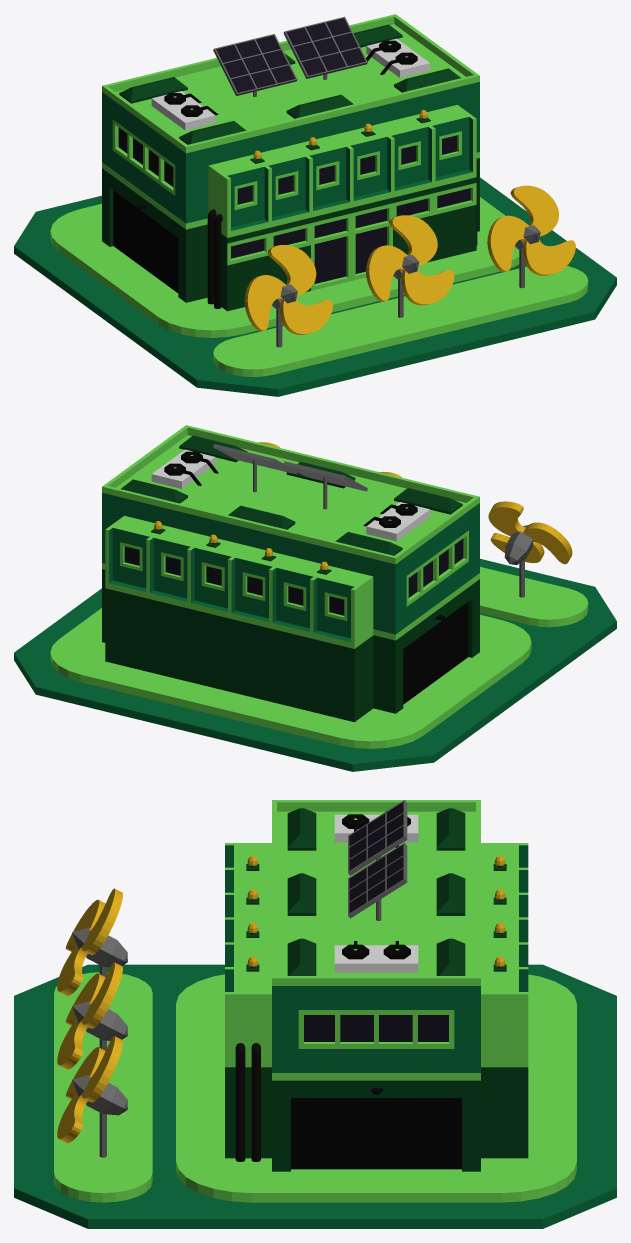
File: PowerPlant_Green.fbx
3 renders of one model, top to bottom at view 1: azimuth 30°, elevation 25°; view 2: azimuth 150°, elevation 25°; view 3: azimuth 270°, elevation 25°, orthographic. The views are drawn at different scales.
Visible parts, largest first — view 1: Power plant green.001, Wind mill.005, Wind mill.006, Wind mill.004; view 2: Power plant green.001, Wind mill.004; view 3: Power plant green.001, Wind mill.006, Wind mill.005, Wind mill.004.
Part boxes in pixels (x1,y1,x2,y2): Power plant green.001: [14, 14, 616, 396]; Wind mill.005: [366, 215, 454, 305]; Wind mill.006: [487, 185, 575, 275]; Wind mill.004: [244, 245, 332, 334]; Power plant green.001: [14, 425, 616, 771]; Wind mill.004: [488, 501, 572, 564]; Power plant green.001: [14, 800, 616, 1228]; Wind mill.006: [57, 1036, 122, 1143]; Wind mill.005: [57, 962, 122, 1069]; Wind mill.004: [57, 888, 122, 995].
Size of the model in its own units: 576 by 276 by 576.
